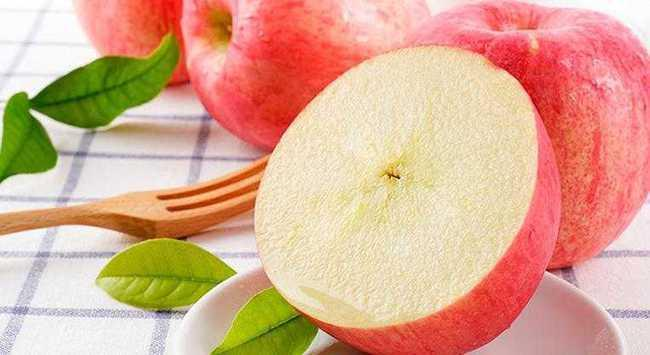apple: (253, 44, 562, 355), (407, 1, 650, 269), (177, 1, 433, 150)
